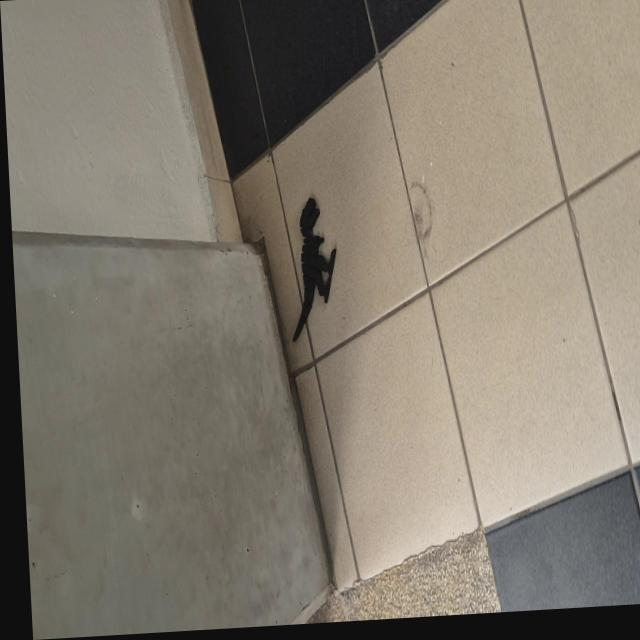dino: (285, 194, 342, 342)
